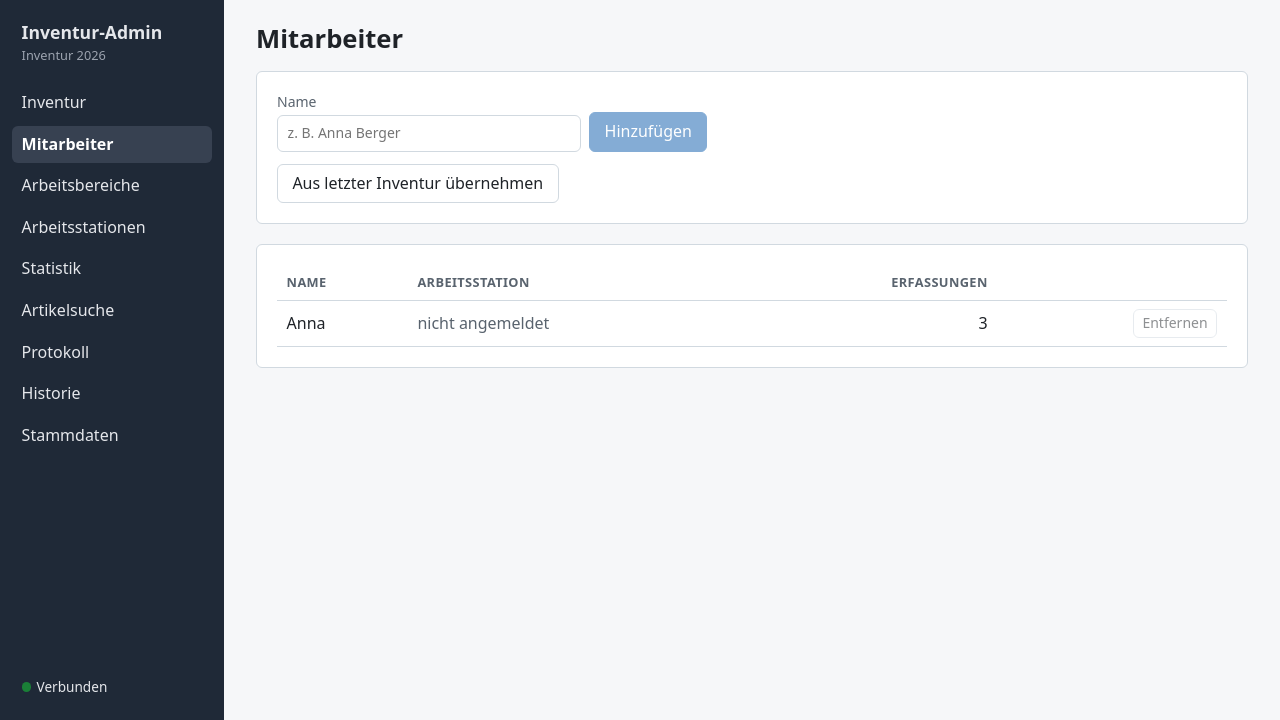
Test: employees page › adds employees and updates live on realtime events
Check: the button "Entfernen" is disabled, box [1133,309,1217,338]
In the field labelled "Name": (429, 134) [277,115,581,152], type "Ben"
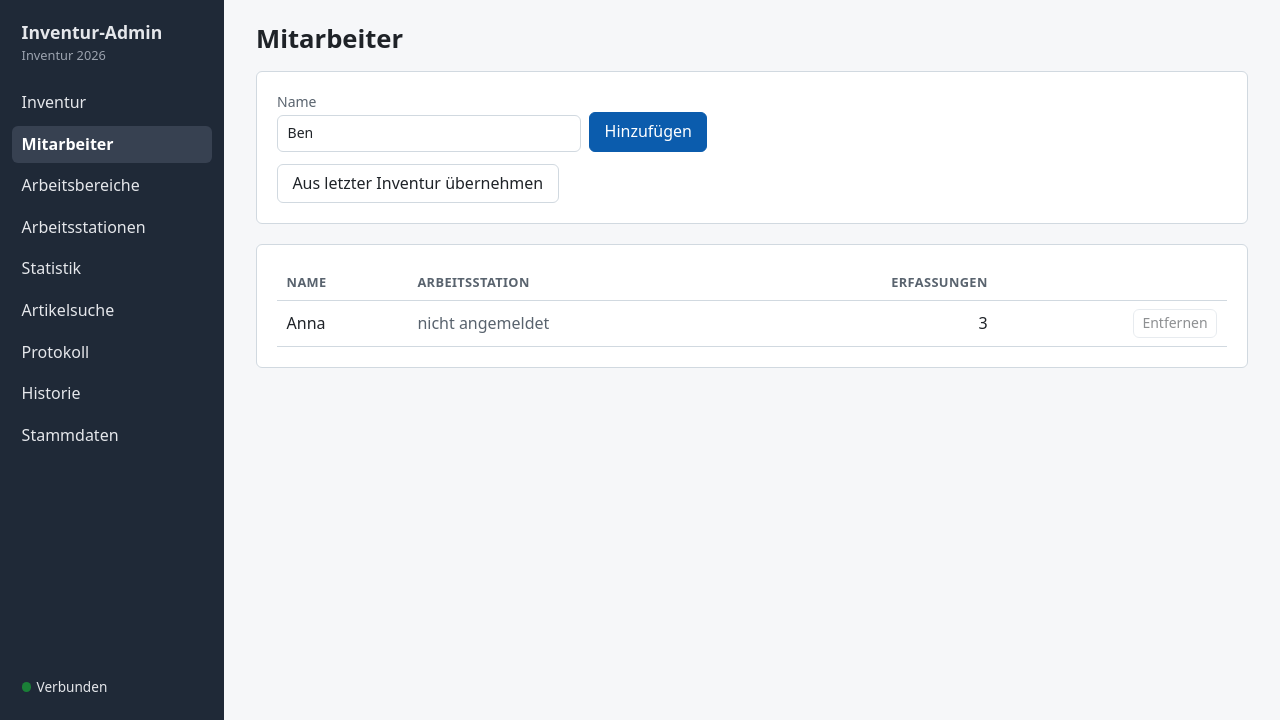
Click the button "Hinzufügen": (648, 132) [589,112,707,152]
Wait 100 ms
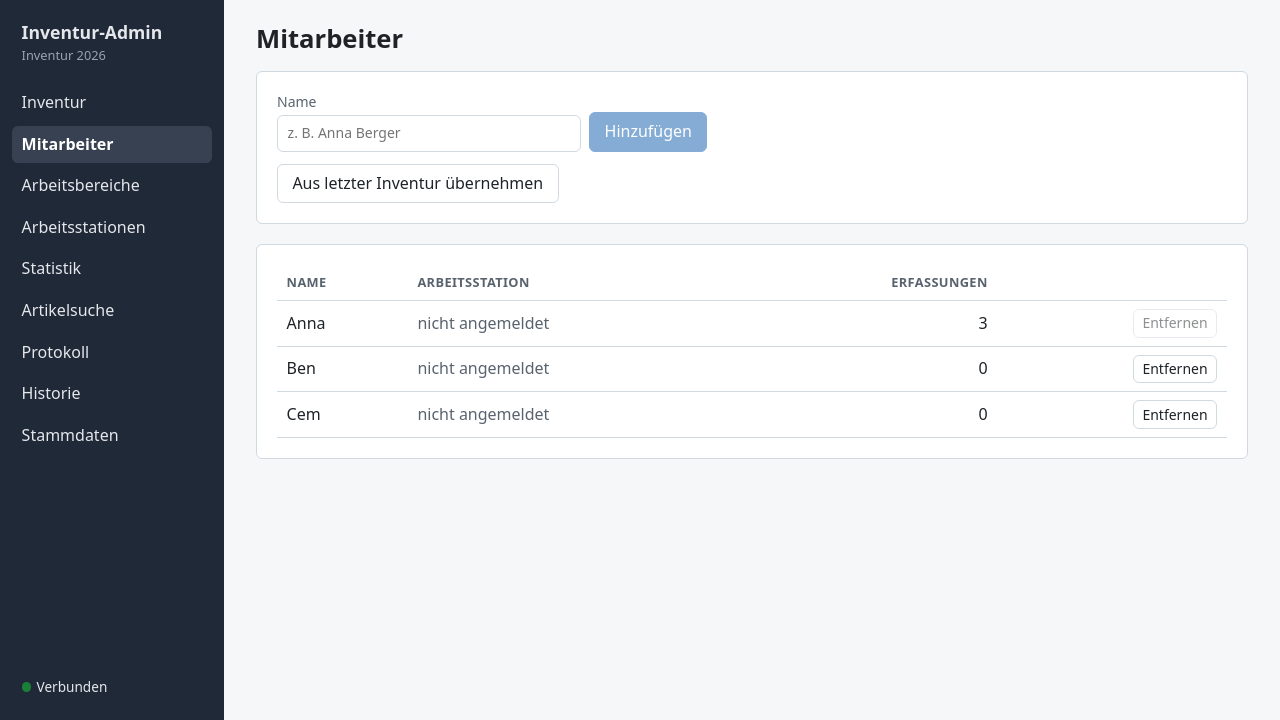
Check: the text "Ben" is shown, box [277,346,408,392]
Check: the text "Cem" is shown, box [277,392,408,438]
